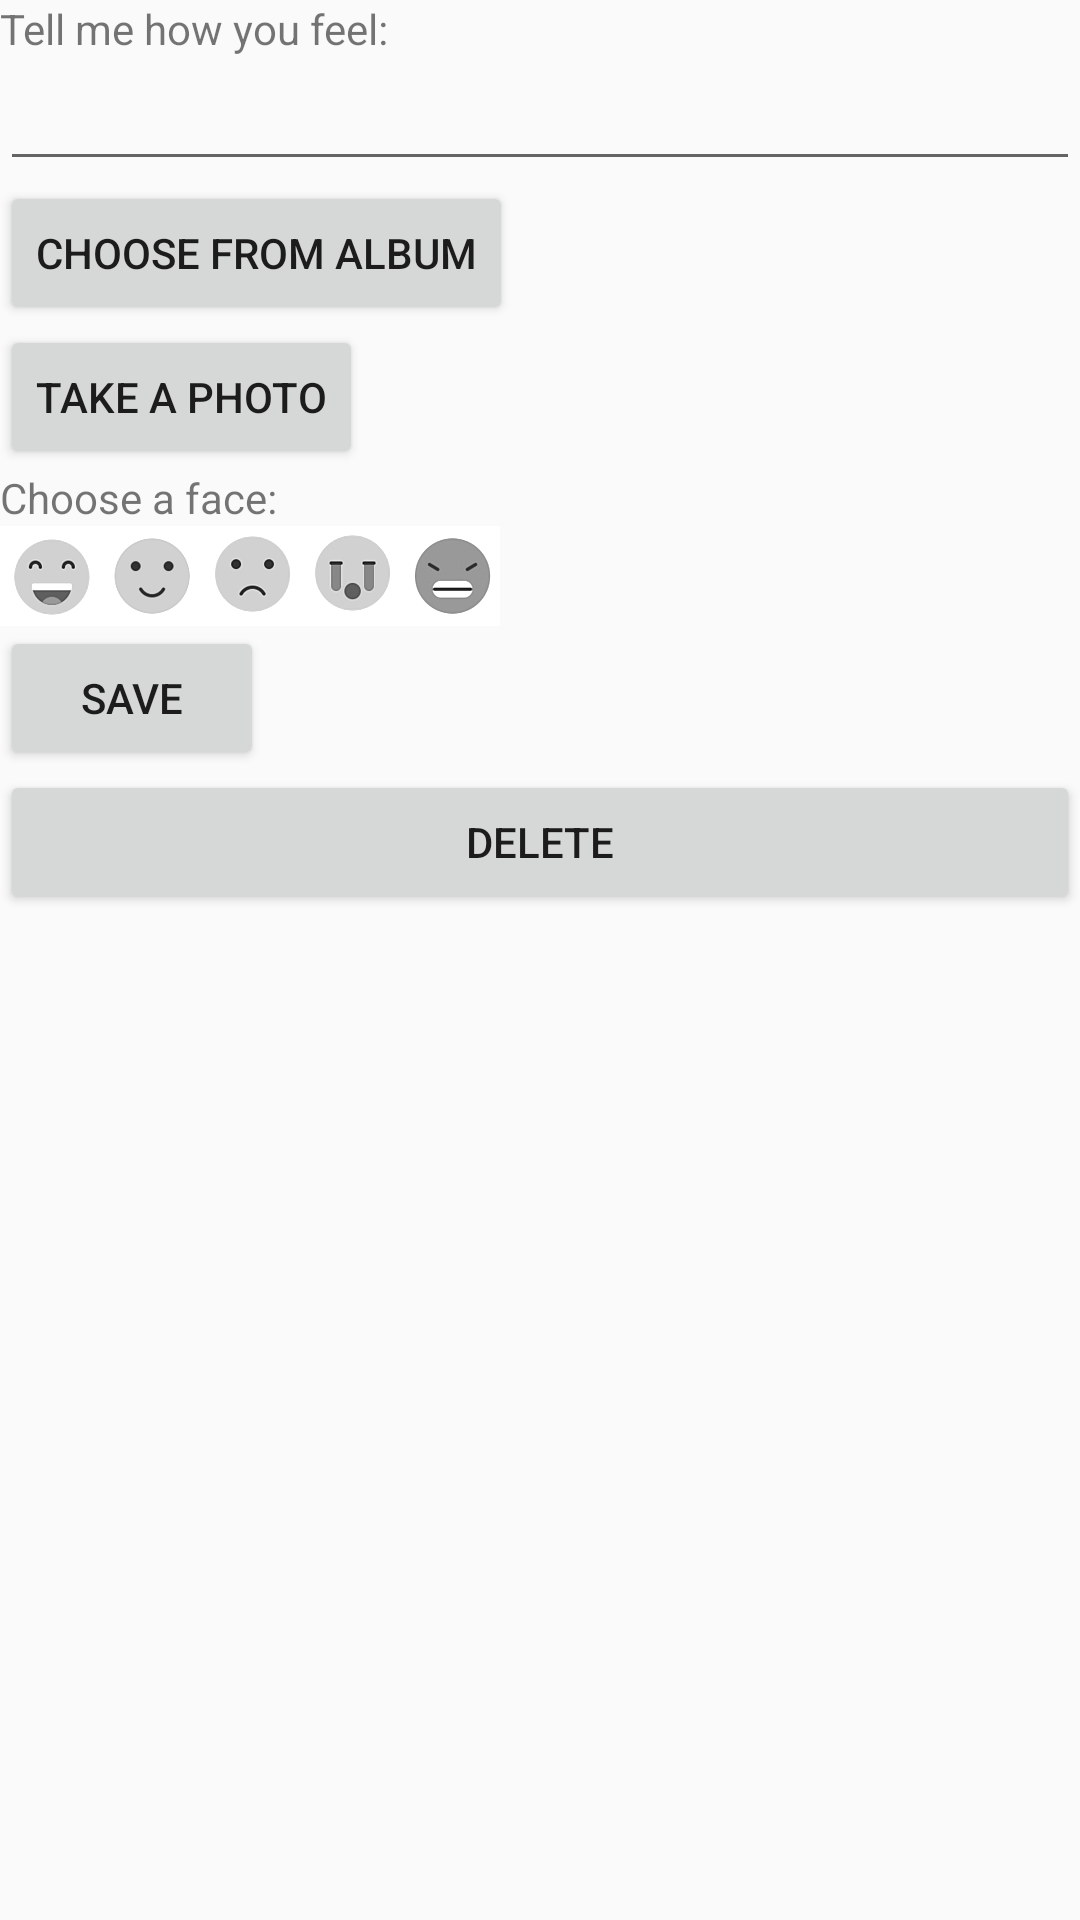

Screen size 1080px x 1920px. Icon name, then its box in pixels as (x1, y1, x2, y2):
angry bw: (415, 538, 490, 614)
cry bw: (315, 535, 390, 611)
laugh bw: (14, 539, 89, 615)
sad bw: (215, 536, 290, 612)
smile bw: (114, 538, 190, 614)
